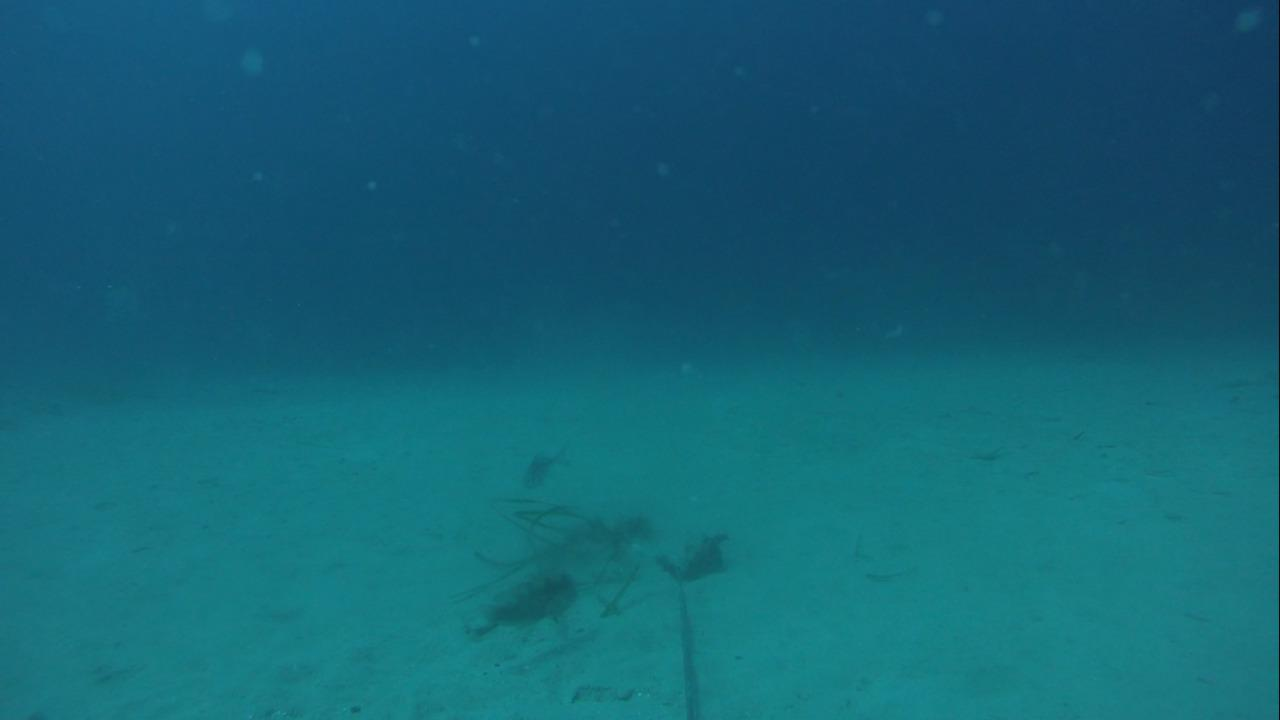raor: (467, 567, 578, 628)
